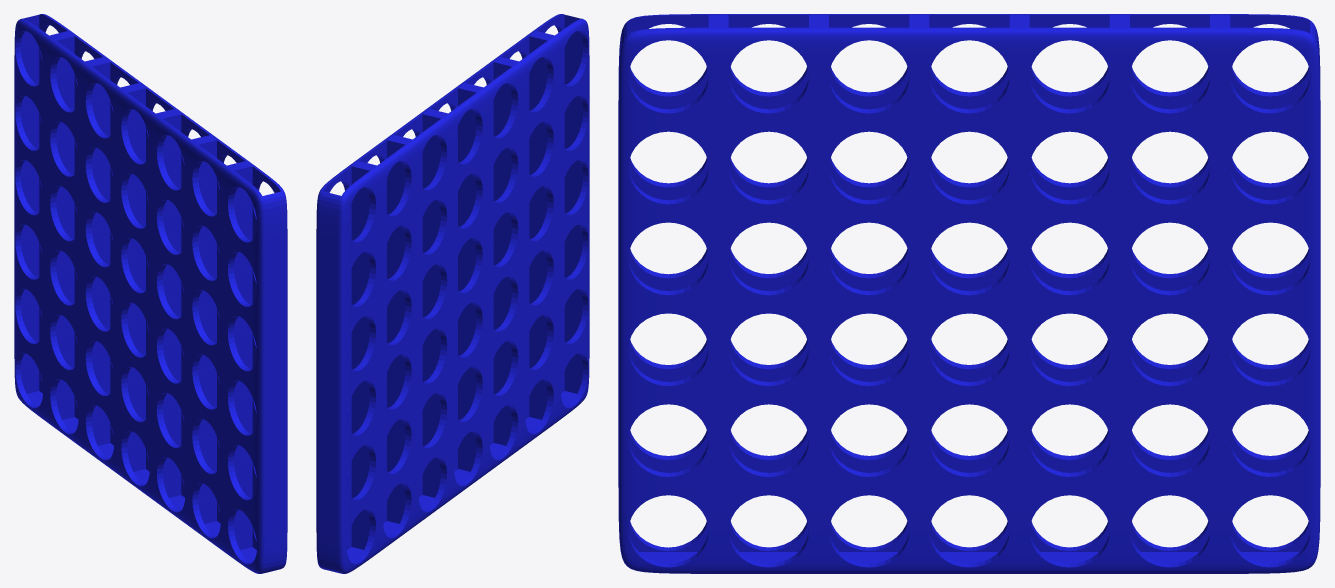
Rendered from fourinarow_board.glb.
3 renders of one model, left to right at view 1: azimuth 30°, elevation 25°; view 2: azimuth 150°, elevation 25°; view 3: azimuth 270°, elevation 25°, orthographic. The views are drawn at different scales.
Parts seen in each view (by area): view 1: Board; view 2: Board; view 3: Board.
Part boxes in pixels (left/top/right/bottom): Board: left=14, top=14, right=287, bottom=573; Board: left=316, top=14, right=589, bottom=573; Board: left=618, top=14, right=1320, bottom=573.
Size of the model in its own units: 1 by 12 by 14.
